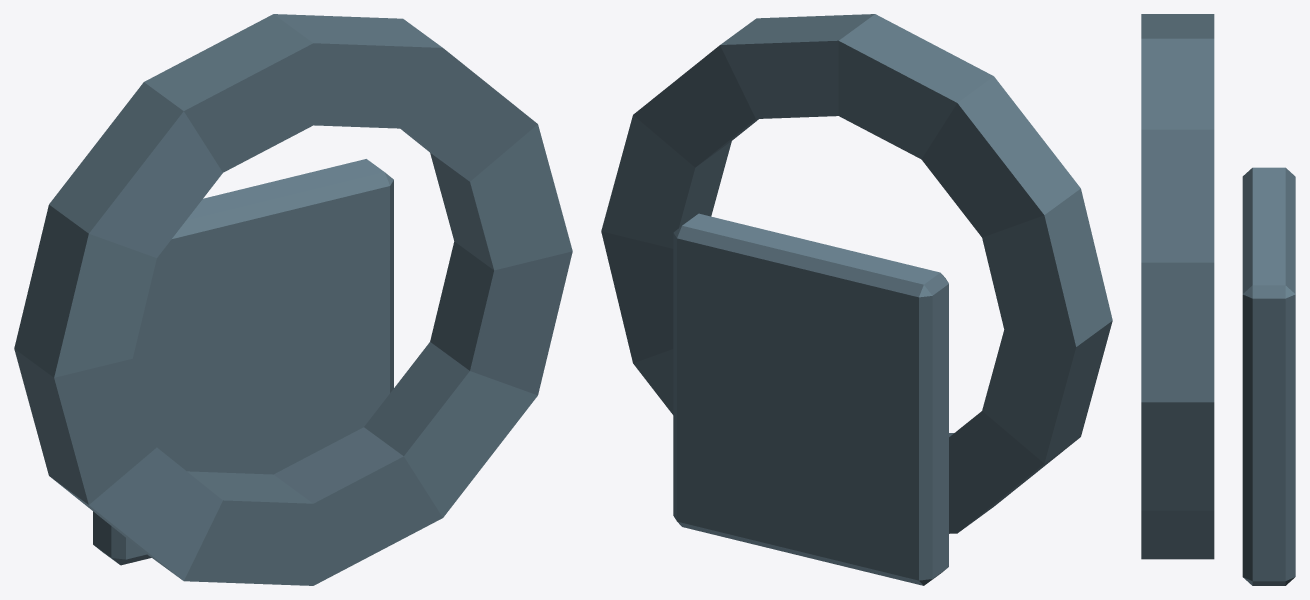
The model's file is D42_Mooring_Ring.fbx.
3 views of the same model, side by side, from view 1: azimuth 30°, elevation 25°; view 2: azimuth 150°, elevation 25°; view 3: azimuth 270°, elevation 25° (orthographic). The views are drawn at different scales.
Visible parts, largest first — view 1: D42_Mooring_Ring; view 2: D42_Mooring_Ring; view 3: D42_Mooring_Ring.
Part boxes in pixels (x1=…): D42_Mooring_Ring: x1=14, y1=14, x2=572, y2=585; D42_Mooring_Ring: x1=601, y1=14, x2=1112, y2=585; D42_Mooring_Ring: x1=1141, y1=14, x2=1295, y2=585.
Bounding box in the file's own units: 0.33 × 0.33 × 0.093.
Materials: 1 (1 with a texture image).
